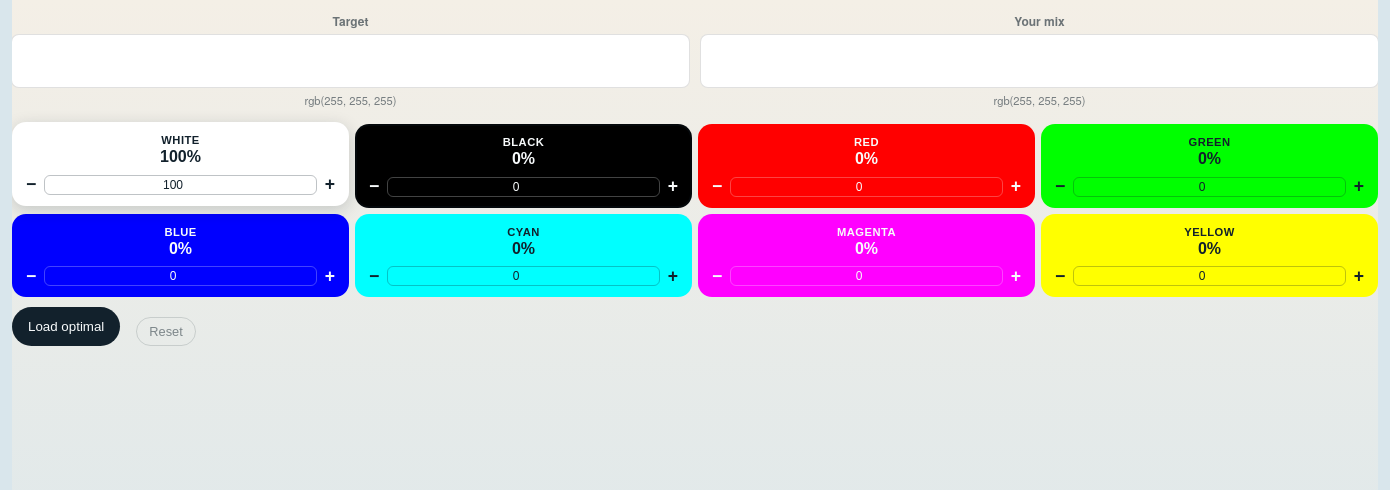
additional component coverage › BlendSimulator covers sparse initial weights fallback
Expected: the number field named "Black weight" holds "0", [387,177,660,197]
Click the button with aria-label "Add Black". click: (524, 149)
box: [357,126,690,172]
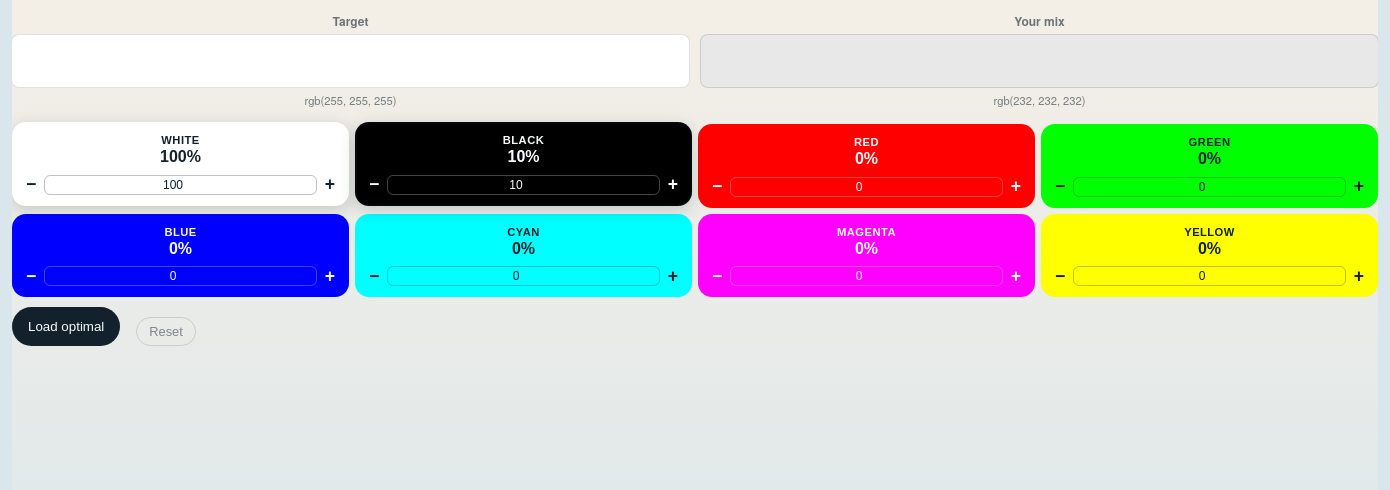
Now the number field named "Black weight" holds "10", box [387,175,660,195]
